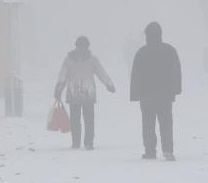person: (129, 20, 187, 162), (51, 35, 117, 151)
